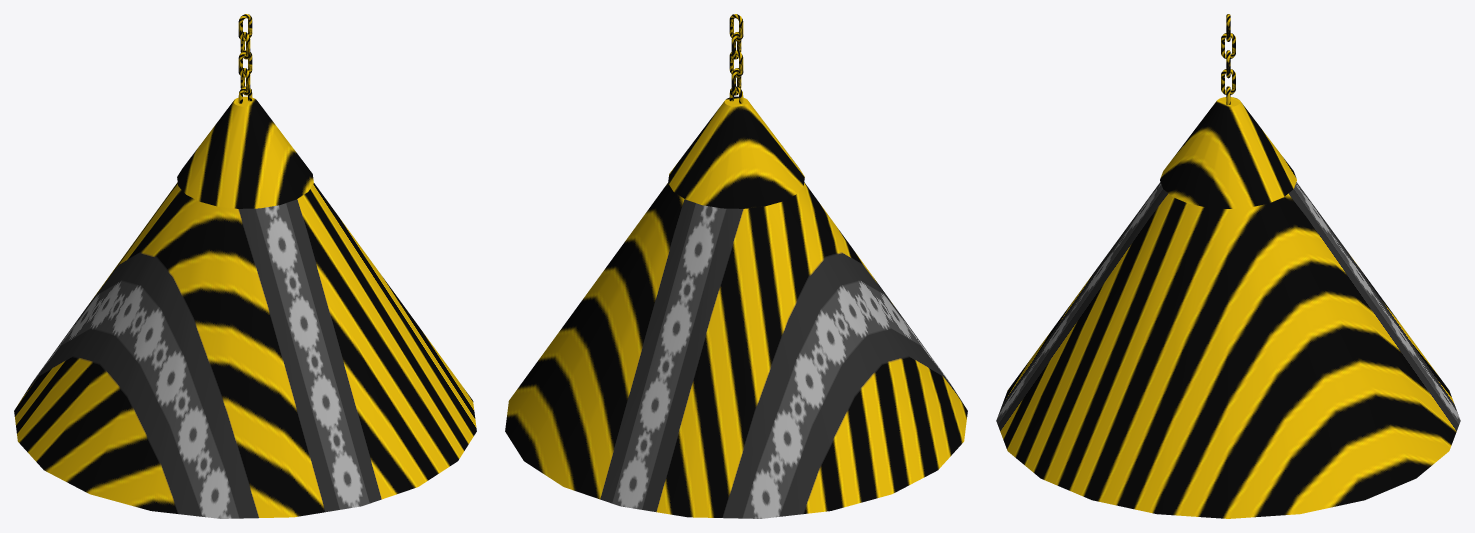
The model's file is Lamp.fbx.
3 views of the same model, side by side, from view 1: azimuth 30°, elevation 25°; view 2: azimuth 150°, elevation 25°; view 3: azimuth 270°, elevation 25° (orthographic).
Visible parts, largest first — view 1: Lamp1; view 2: Lamp1; view 3: Lamp1.
Boxes of the visible parts, <box> form: Lamp1: <box>14,96,476,518</box>; Lamp1: <box>505,96,967,518</box>; Lamp1: <box>996,97,1460,518</box>.
Bounding box in the file's own units: 10.8 × 10.42 × 10.8.
